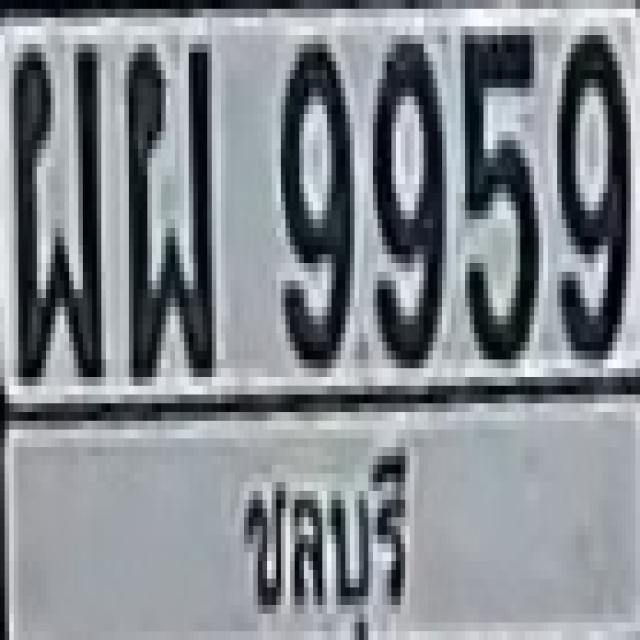5: (461, 27, 534, 360)
9: (276, 35, 350, 360), (368, 35, 442, 360), (553, 26, 626, 351)
A28: (7, 35, 99, 377), (120, 35, 212, 377)
CBI: (230, 434, 422, 640)
